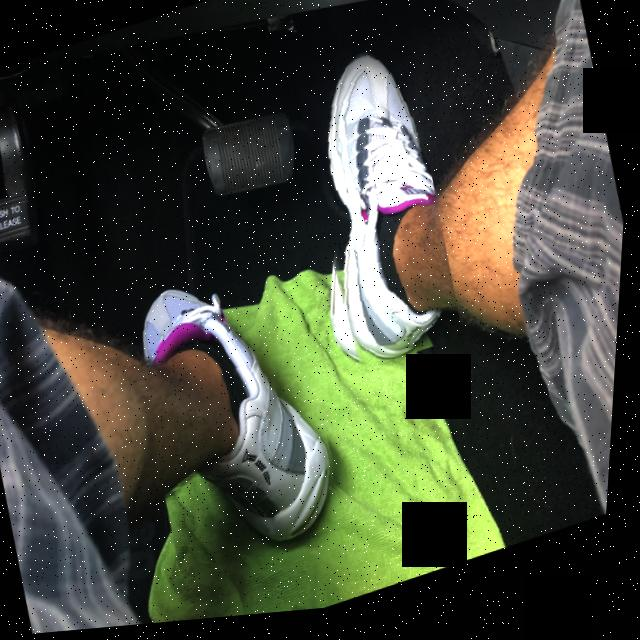shoe: (118, 247, 368, 588), (272, 40, 482, 388)
